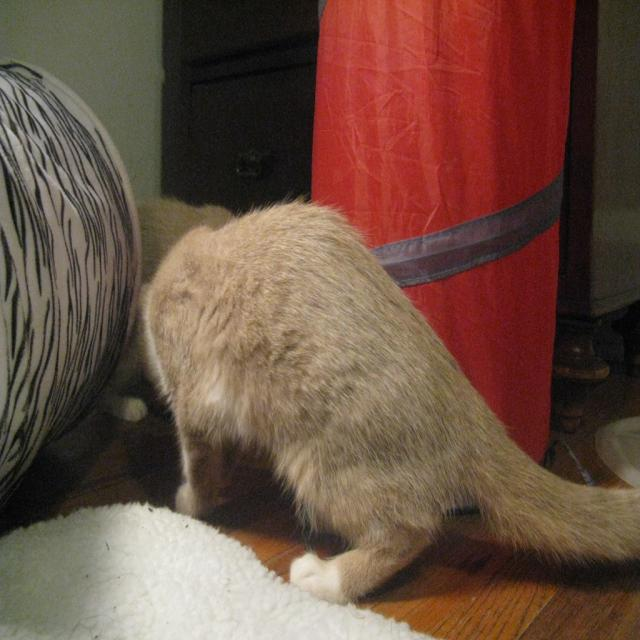Cat: (134, 194, 638, 607), (92, 198, 232, 426)
